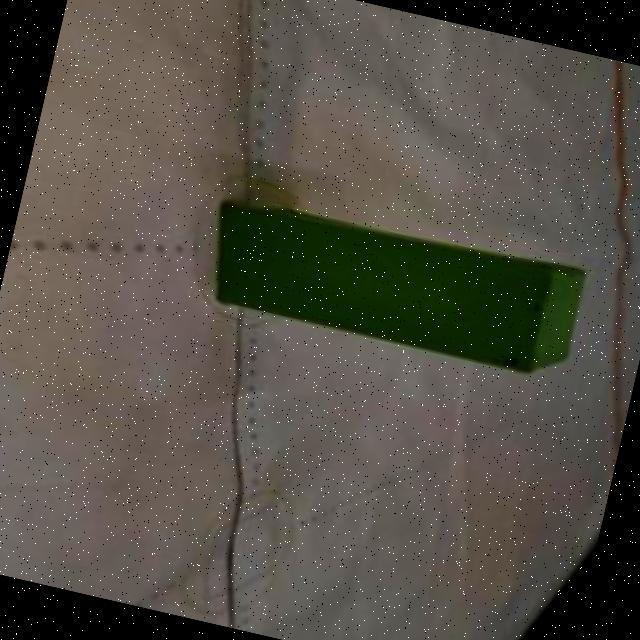greenbox: (193, 184, 594, 385)
